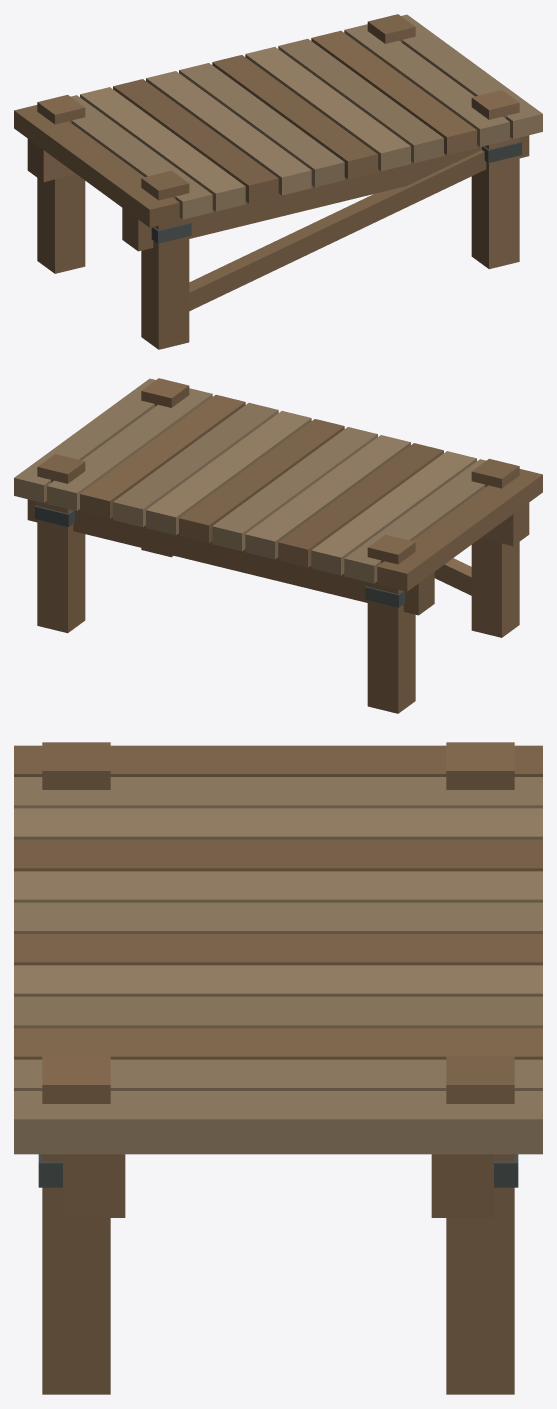
The model's file is intact-dock.glb.
3 views of the same model, one above another, from view 1: azimuth 30°, elevation 25°; view 2: azimuth 150°, elevation 25°; view 3: azimuth 270°, elevation 25° (orthographic). The views are drawn at different scales.
Parts seen in each view (by area): view 1: intact-dock; view 2: intact-dock; view 3: intact-dock.
Boxes of the visible parts, x1=… form: intact-dock: x1=14, y1=14, x2=542, y2=349; intact-dock: x1=14, y1=378, x2=542, y2=713; intact-dock: x1=14, y1=742, x2=542, y2=1394.
Size of the model in its own units: 2.98 by 1.15 by 1.78.
